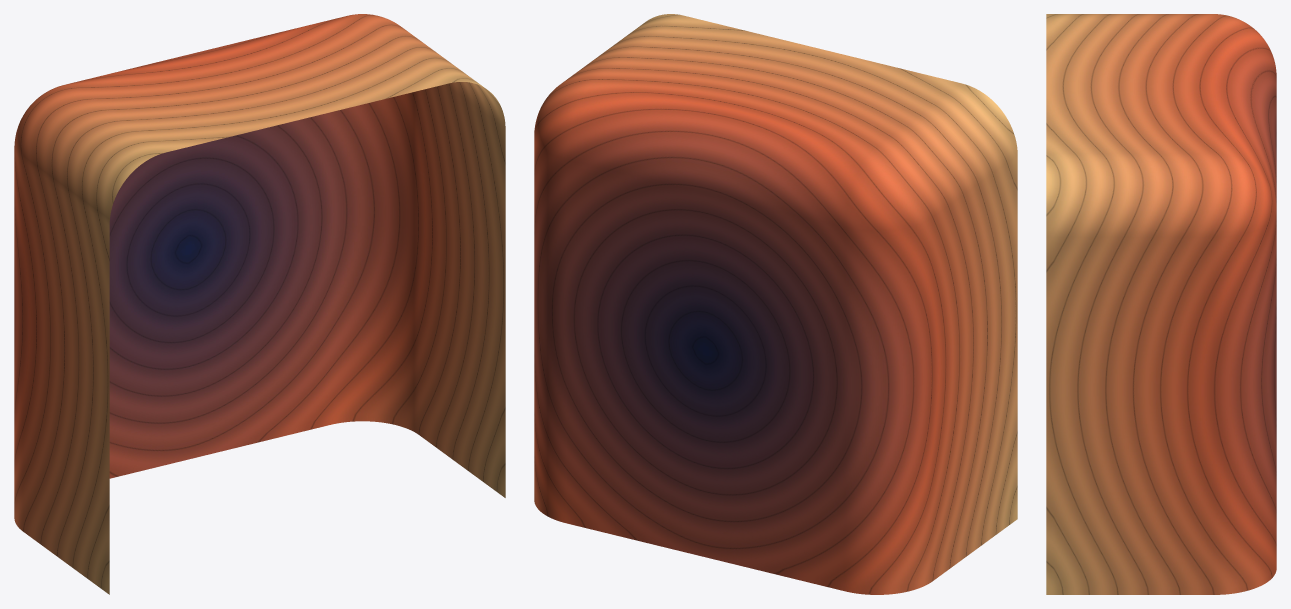
The model's file is Kabine_Innen.glb.
The picture shows the model from 3 angles, left to right: view 1: azimuth 30°, elevation 25°; view 2: azimuth 150°, elevation 25°; view 3: azimuth 270°, elevation 25°; orthographic projection. The views are drawn at different scales.
Visible parts, largest first — view 1: Kabine_Innen; view 2: Kabine_Innen; view 3: Kabine_Innen.
Boxes of the visible parts, box(x1,y1,x2,y2) form: Kabine_Innen: box(14, 14, 505, 594); Kabine_Innen: box(534, 14, 1017, 594); Kabine_Innen: box(1046, 14, 1276, 594).
Bounding box in the file's own units: 5.76 × 5.96 × 3.
Materials: 1 (1 with a texture image).
